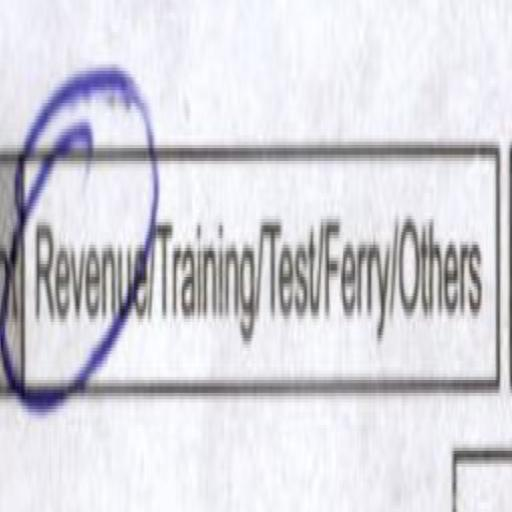check: (28, 32, 150, 446)
